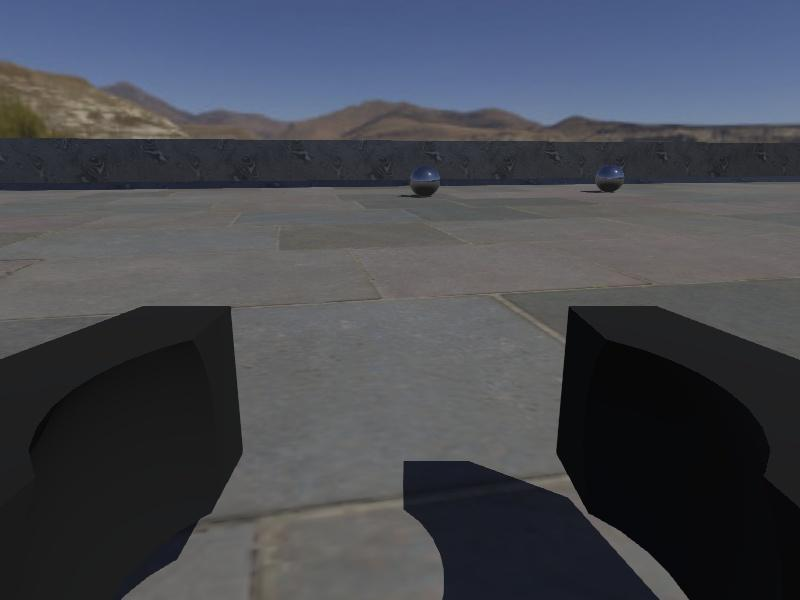steel ball: (595, 164, 625, 194), (411, 165, 440, 196)
